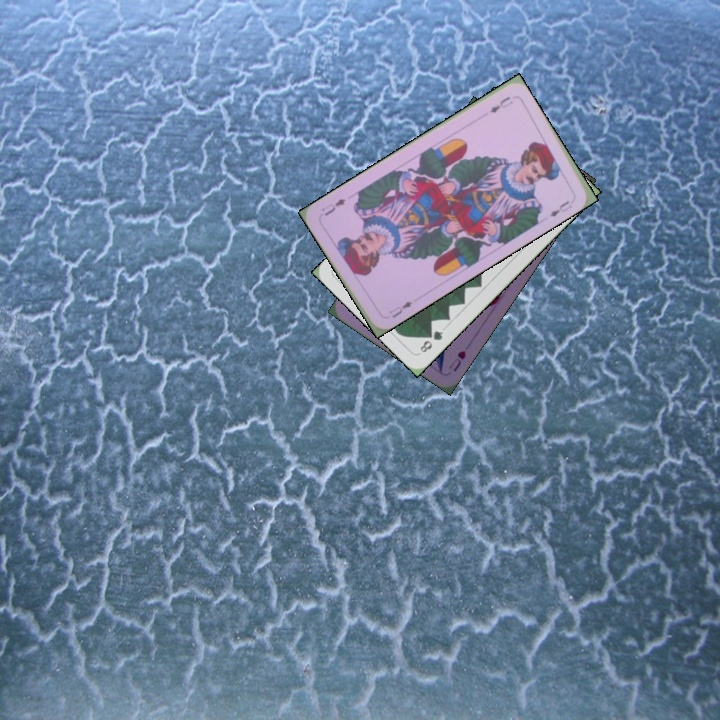EU: (385, 297, 415, 320), (485, 92, 515, 115)
G8: (416, 326, 446, 355)
HU: (445, 346, 469, 374)
